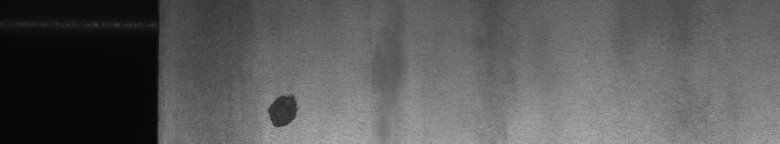fi: (260, 88, 304, 136)
